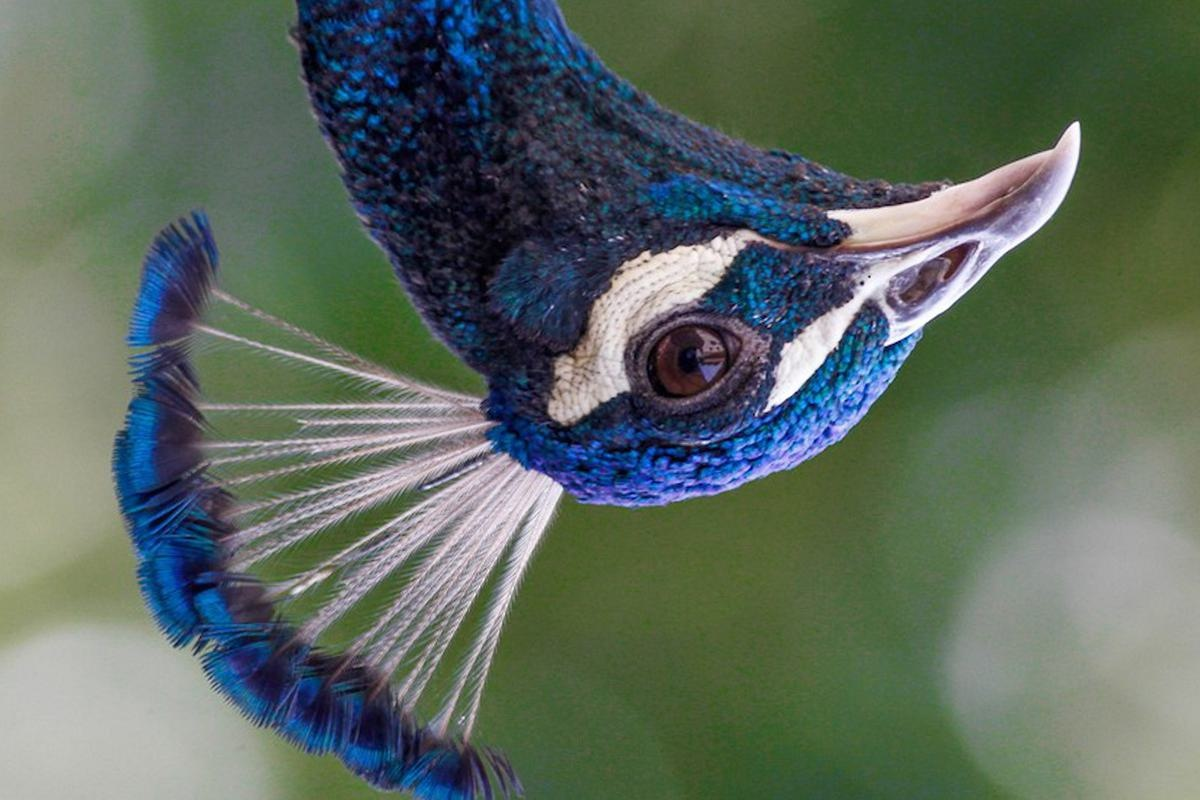peacock: (133, 1, 1069, 776)
